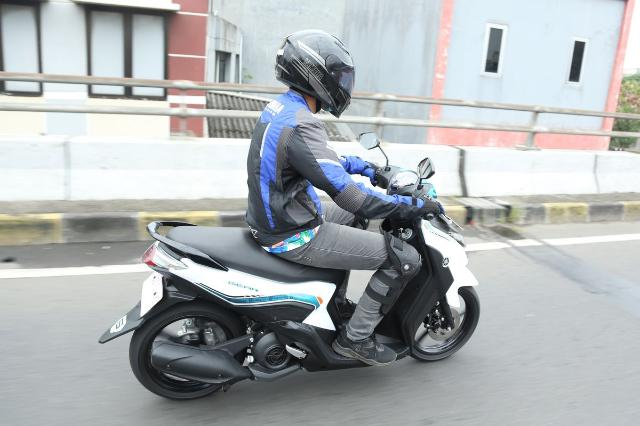helm: (274, 32, 361, 124)
motor: (101, 130, 484, 403)
